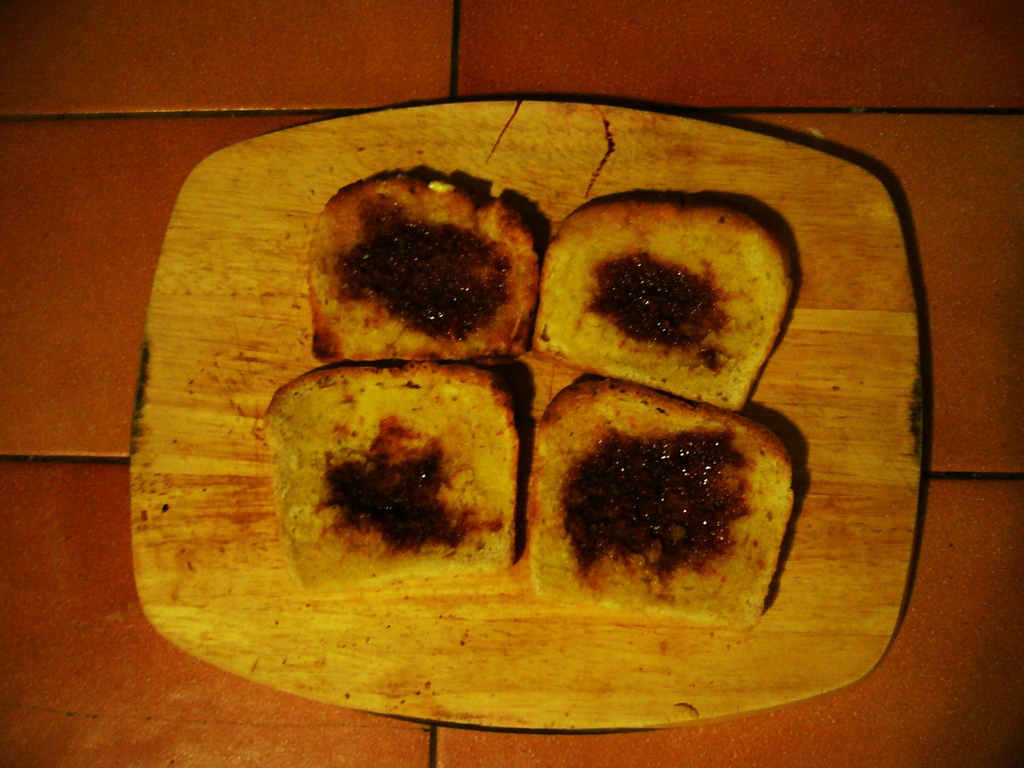slice of bread: (535, 372, 796, 632), (538, 186, 798, 415), (256, 366, 529, 576), (303, 167, 554, 360)
